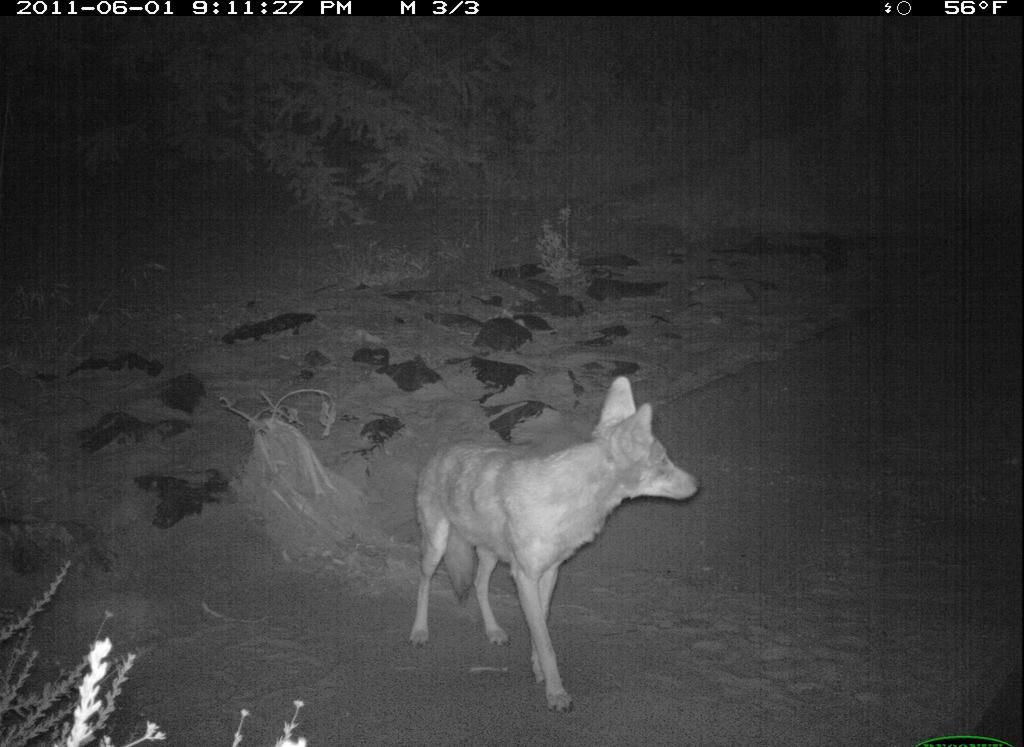coyote: (411, 370, 705, 713)
